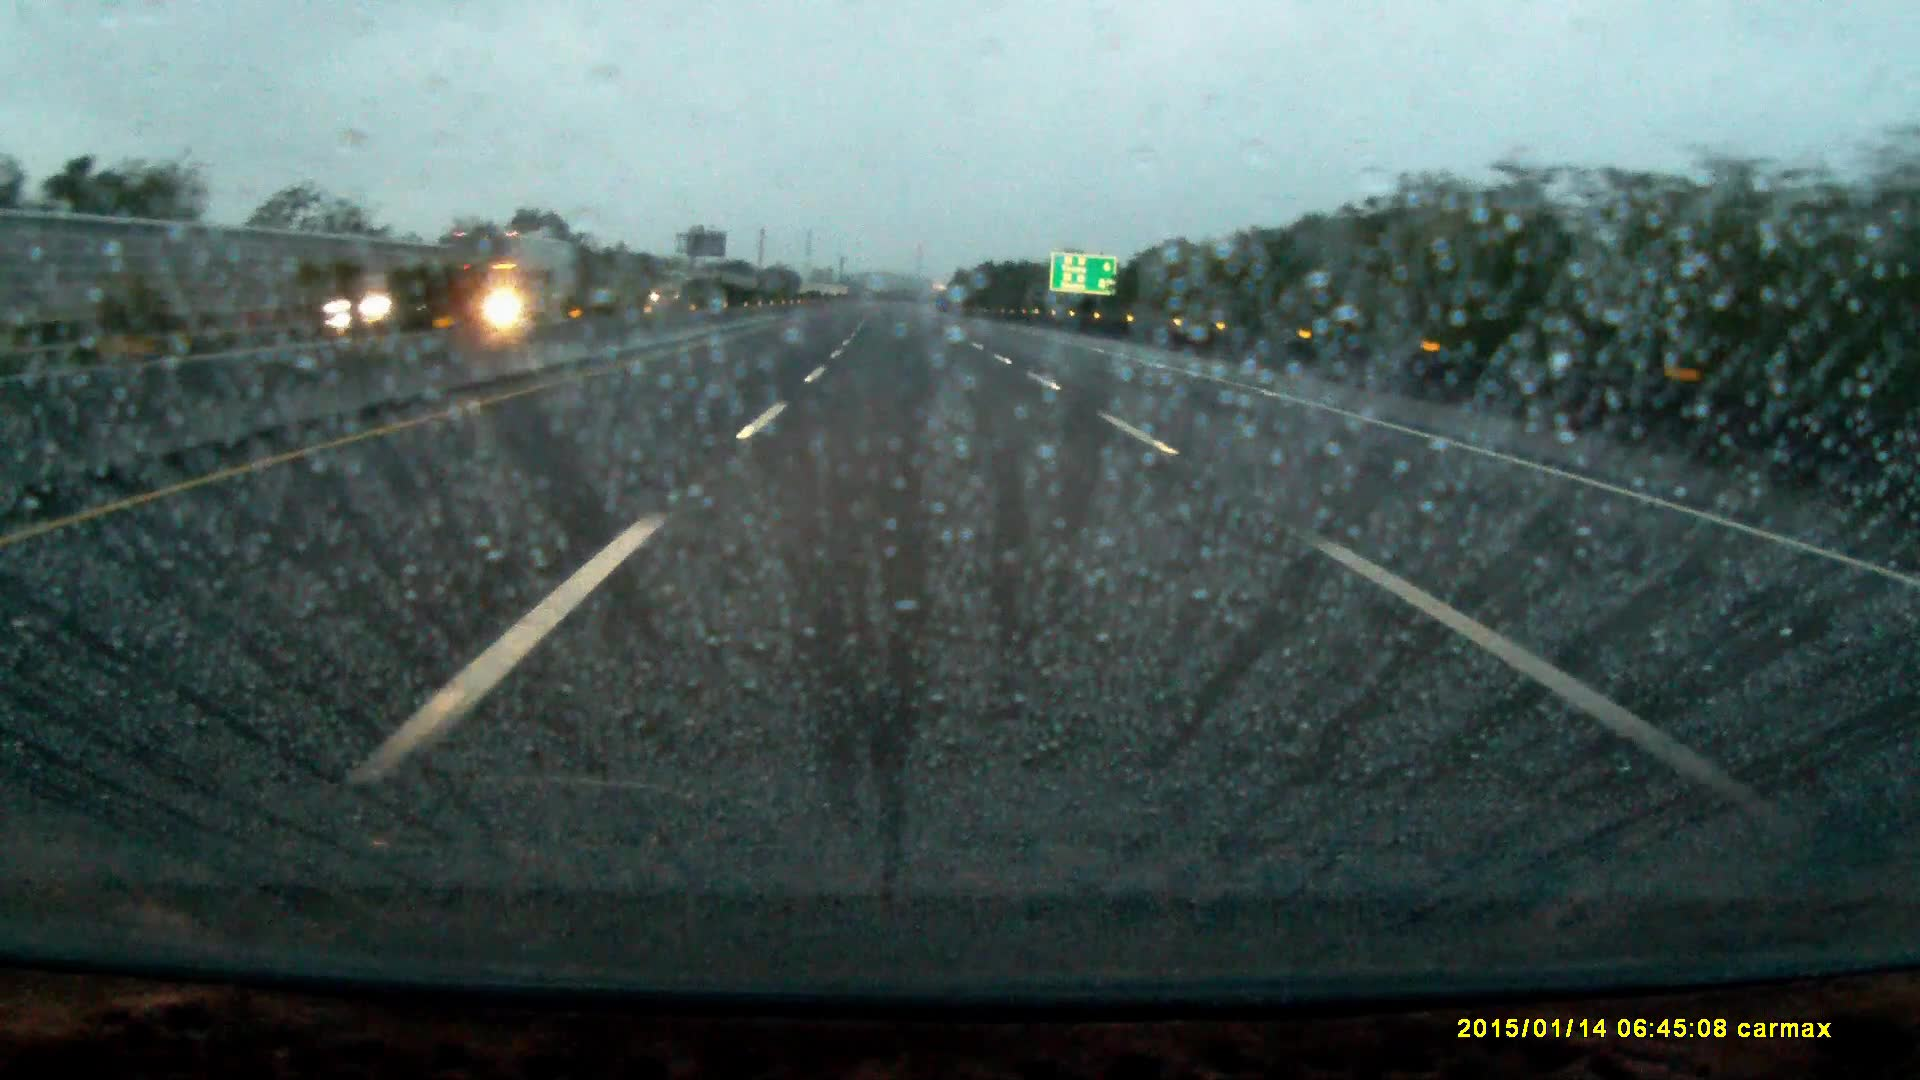vehicle: (443, 229, 571, 323), (322, 280, 422, 334)
